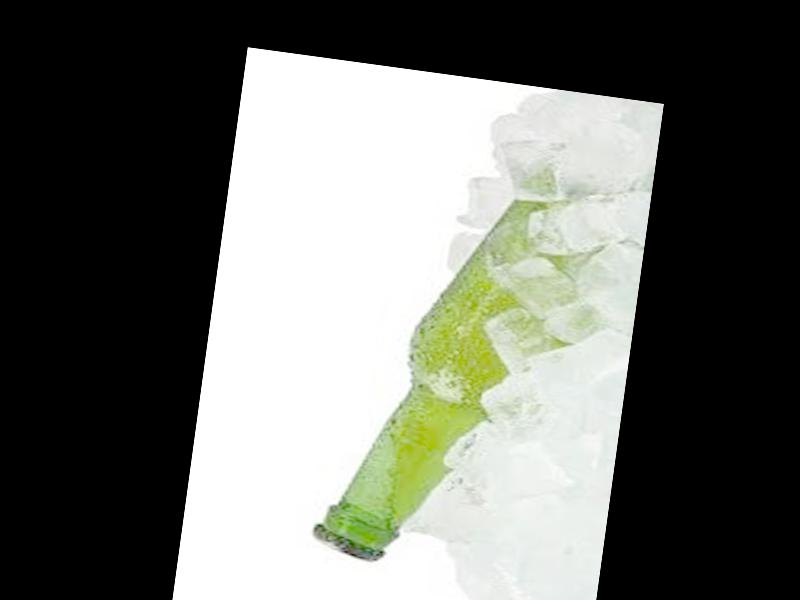Beer: (312, 149, 572, 586)
